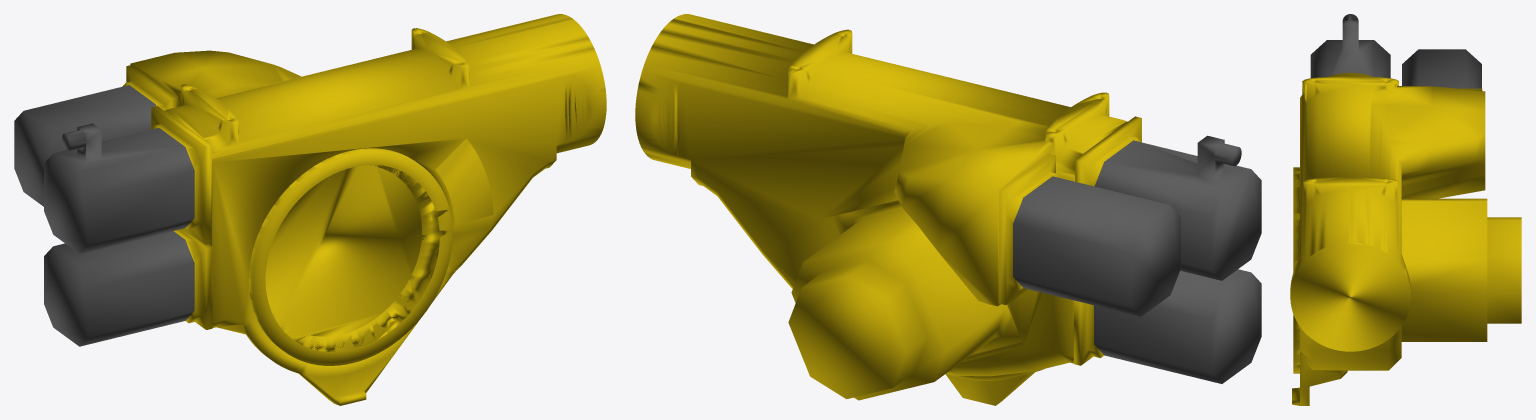
The picture shows the model from 3 angles, left to right: view 1: azimuth 30°, elevation 25°; view 2: azimuth 150°, elevation 25°; view 3: azimuth 270°, elevation 25°; orthographic projection. The views are drawn at different scales.
Parts seen in each view (by area): view 1: kr60_4; view 2: kr60_4; view 3: kr60_4.
Boxes of the visible parts, x1,y1,x2,y2 form: kr60_4: (14,14,606,405); kr60_4: (635,14,1261,405); kr60_4: (1290,14,1521,405).
Size of what is drawn, in the model's own units: 245 by 142 by 108.
